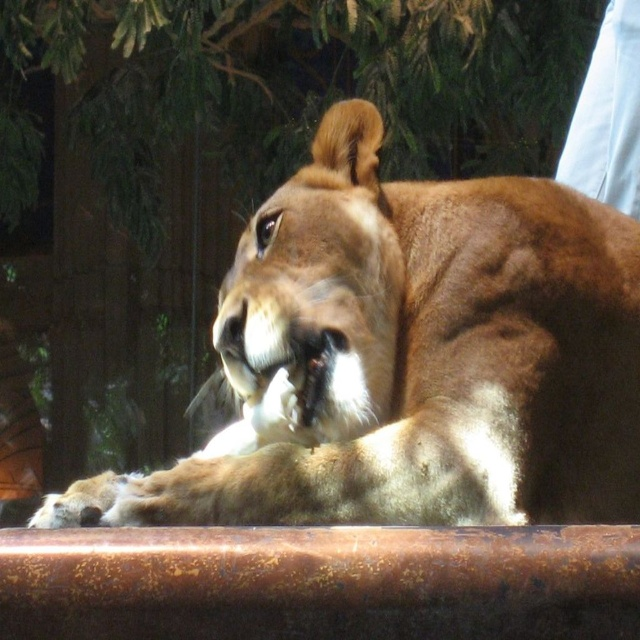Lion: (25, 99, 640, 530)
